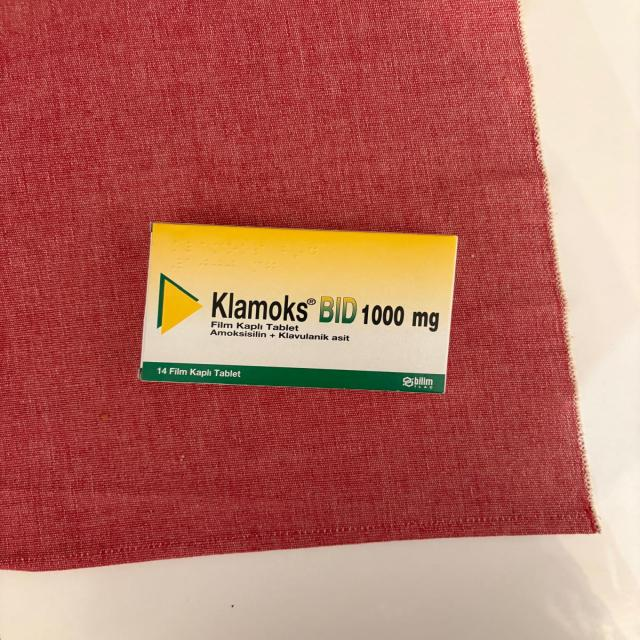good_package: (137, 220, 461, 398)
